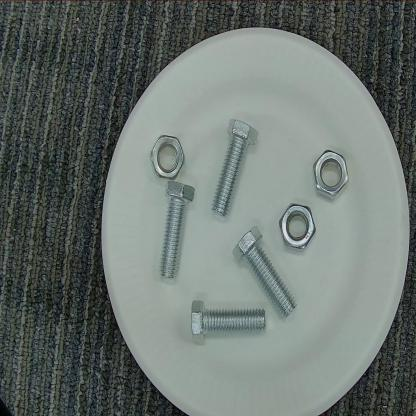FOD: (227, 225, 301, 318), (208, 117, 262, 220), (186, 298, 276, 350), (159, 178, 200, 285), (312, 145, 354, 202), (277, 201, 318, 250), (149, 131, 187, 180)
